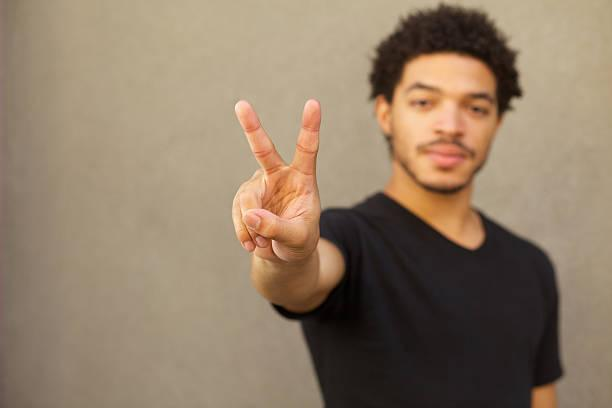peace_sign: (223, 96, 335, 274)
